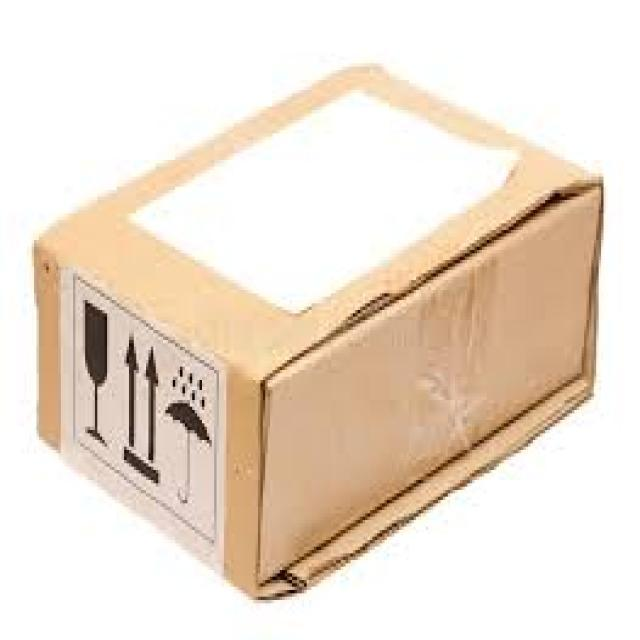Cardboard: (36, 52, 598, 604)
